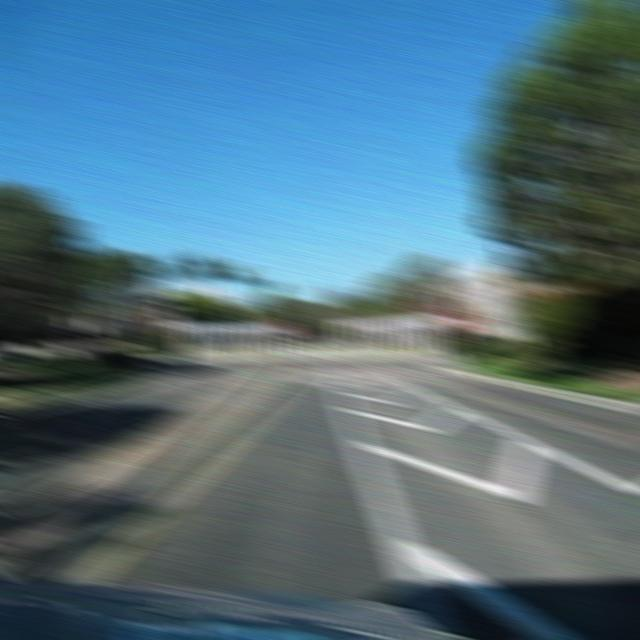stop: (448, 312, 472, 332), (272, 316, 296, 333)
